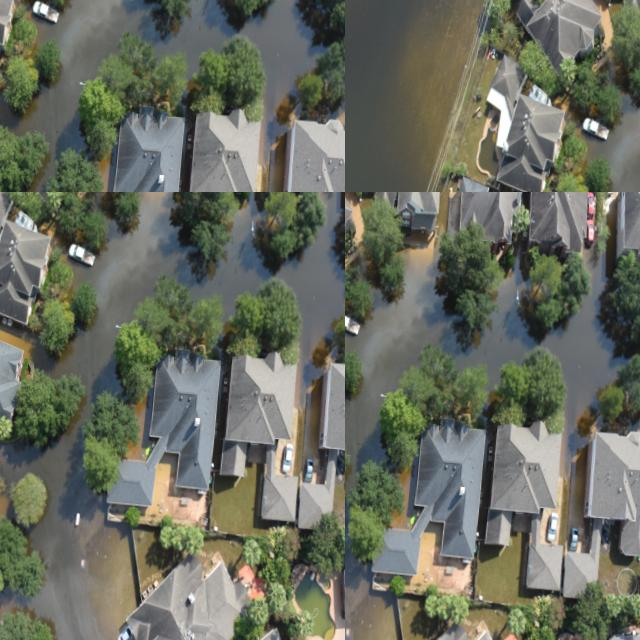fire: (0, 192, 345, 640), (345, 236, 535, 484), (95, 0, 317, 192), (456, 0, 626, 192), (542, 249, 626, 477), (345, 592, 397, 640)
